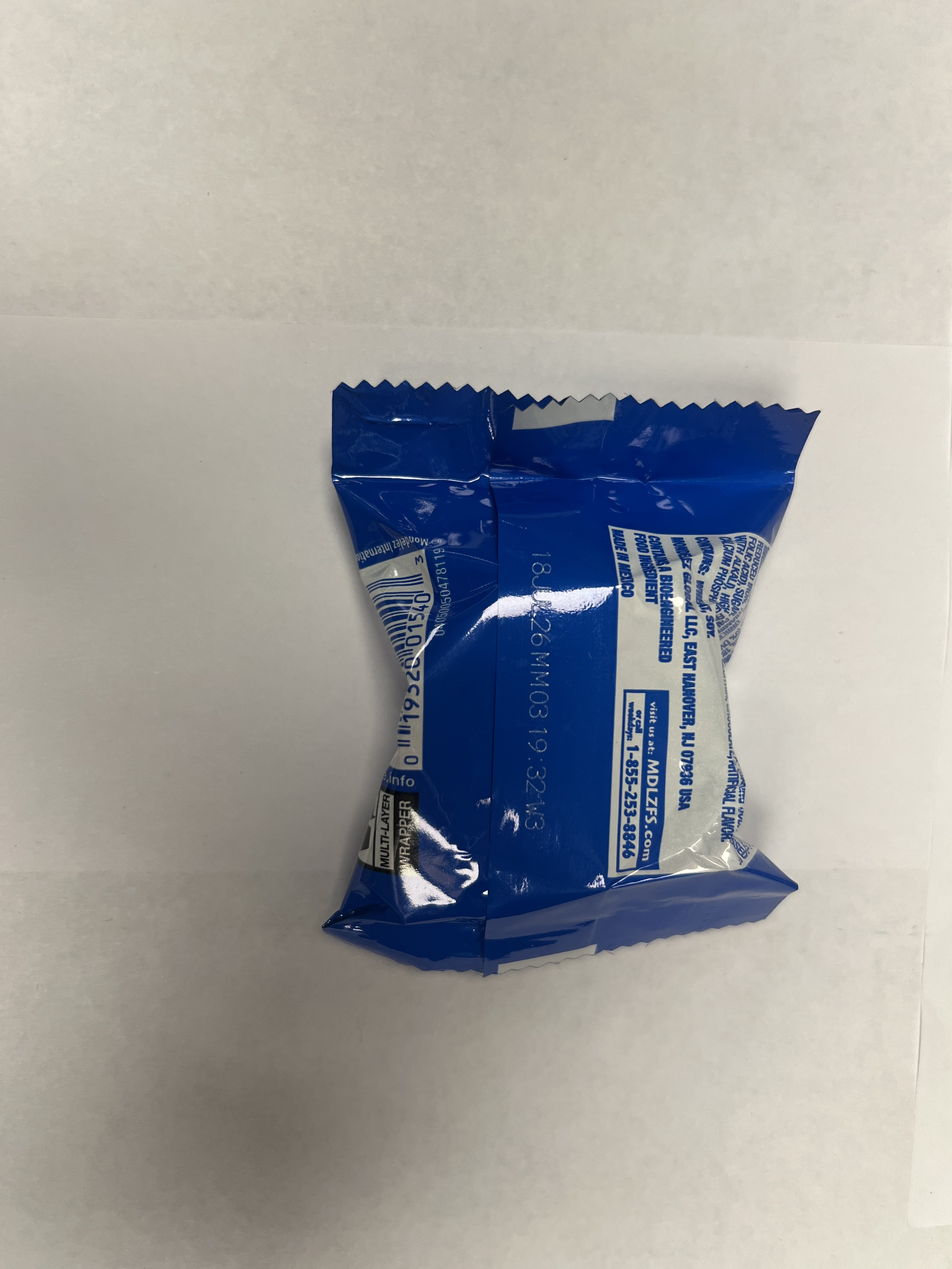packaged: (323, 374, 816, 980)
